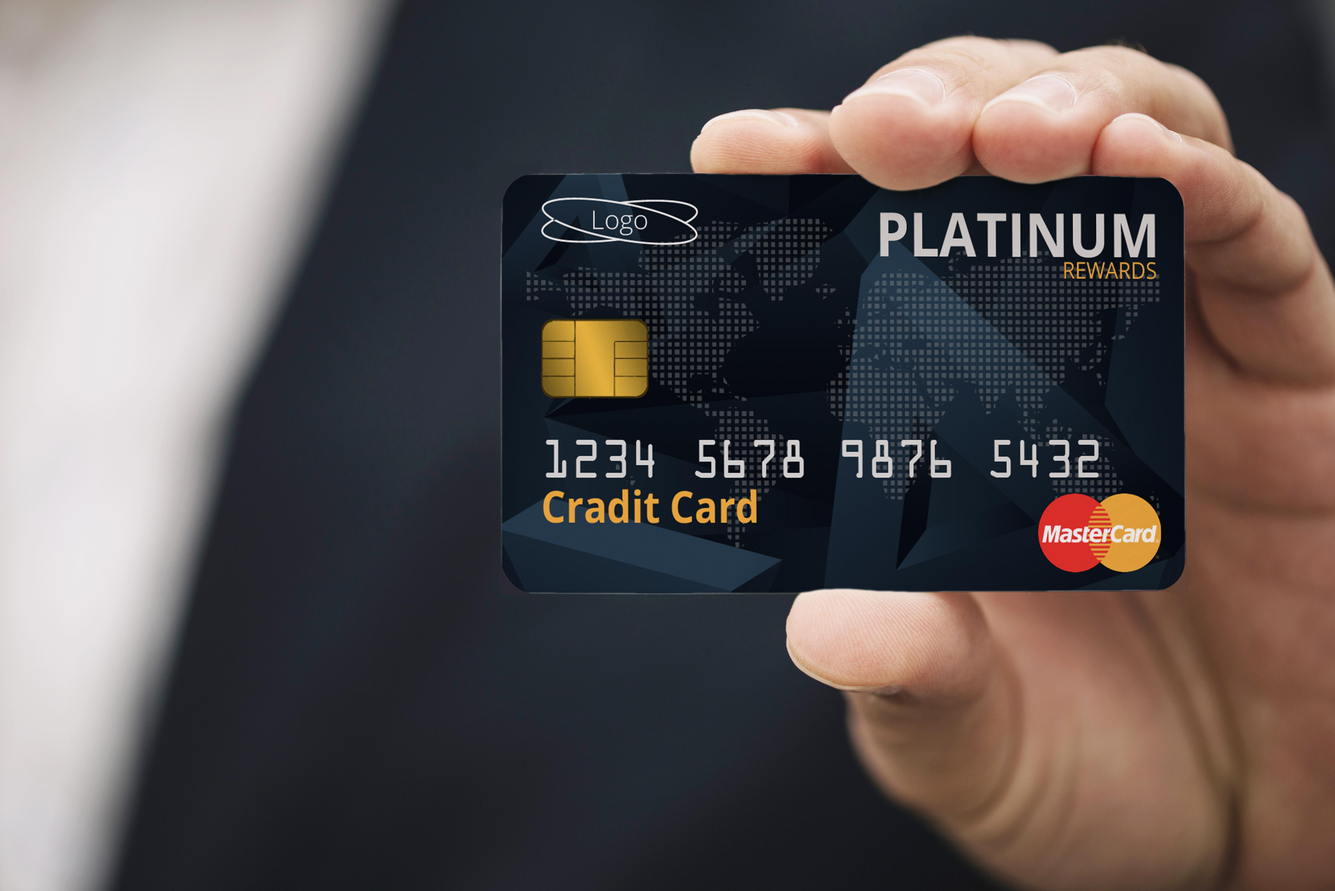Credit_card: (503, 174, 1184, 593)
